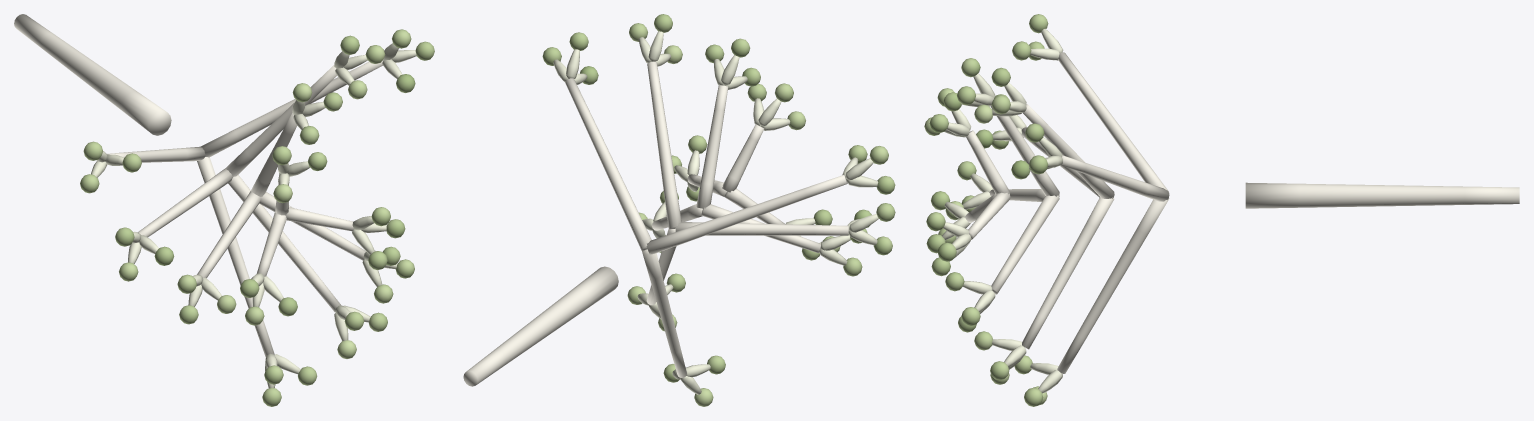
The model's file is trichoderma-reesei.glb.
3 renders of one model, left to right at view 1: azimuth 30°, elevation 25°; view 2: azimuth 150°, elevation 25°; view 3: azimuth 270°, elevation 25°, orthographic.
Visible parts, largest first — view 1: conidiophore_stipe, conidial_heads, phialide_whorls; view 2: conidiophore_stipe, conidial_heads, phialide_whorls; view 3: conidiophore_stipe, conidial_heads, phialide_whorls.
Part boxes in pixels (bbox=[...]): conidiophore_stipe: bbox=[14, 14, 383, 357]; conidial_heads: bbox=[80, 29, 434, 406]; phialide_whorls: bbox=[91, 43, 416, 388]; conidiophore_stipe: bbox=[463, 61, 848, 386]; conidial_heads: bbox=[542, 14, 895, 406]; phialide_whorls: bbox=[553, 31, 878, 394]; conidiophore_stipe: bbox=[965, 52, 1519, 373]; conidial_heads: bbox=[924, 14, 1048, 406]; phialide_whorls: bbox=[942, 28, 1063, 393].
Bounding box in the file's own units: 2.29 × 2.28 × 3.37.
